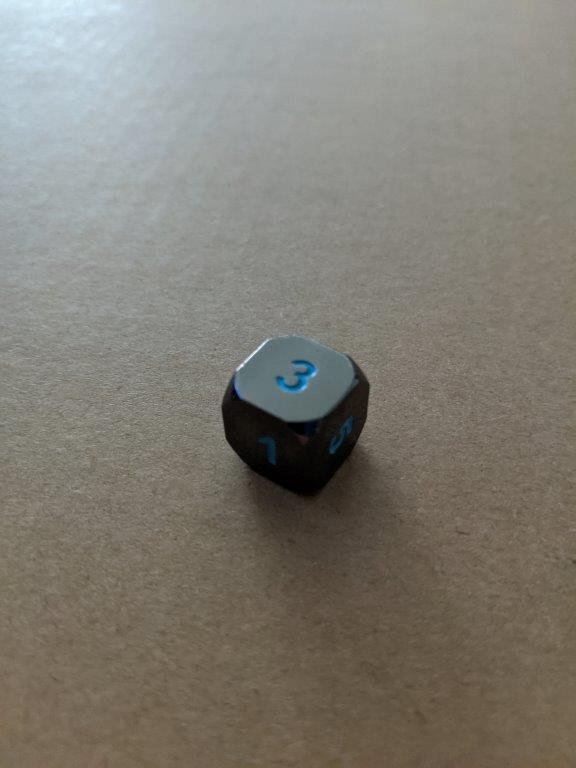d6-3: (221, 334, 371, 499)
